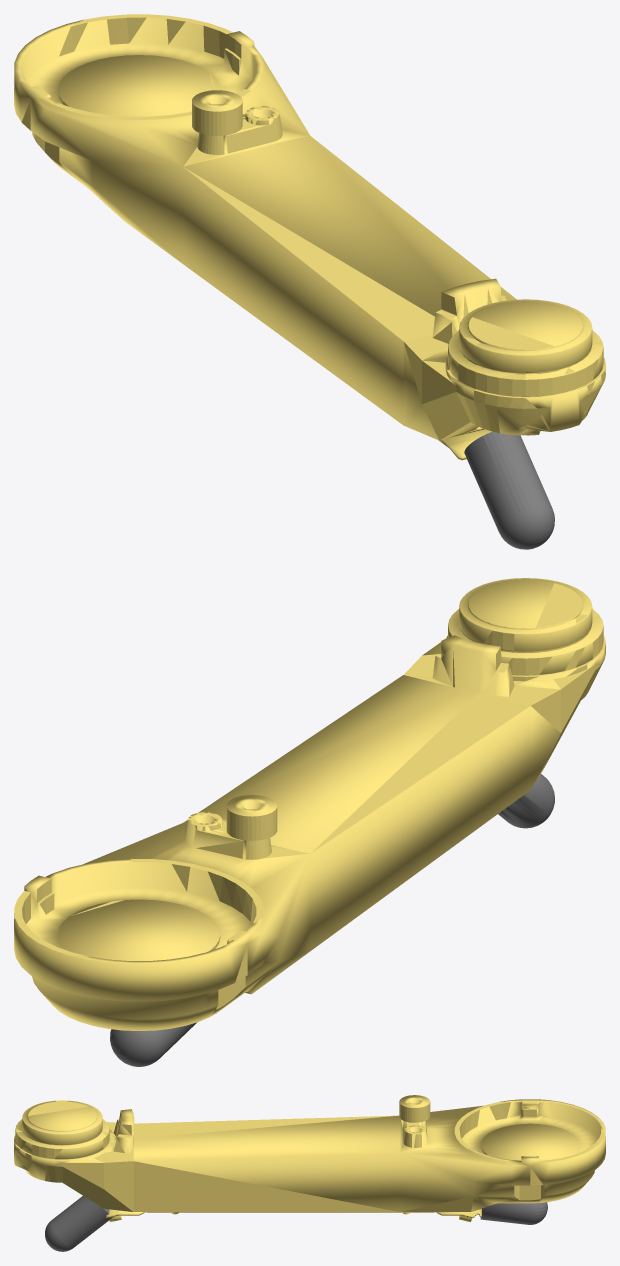
The picture shows the model from 3 angles, top to bottom: view 1: azimuth 30°, elevation 25°; view 2: azimuth 150°, elevation 25°; view 3: azimuth 270°, elevation 25°; orthographic projection. The views are drawn at different scales.
Visible parts, largest first — view 1: Node_0x7fd4b53134a0, Node_0x7fd4b53134a0.001; view 2: Node_0x7fd4b53134a0, Node_0x7fd4b53134a0.001; view 3: Node_0x7fd4b53134a0, Node_0x7fd4b53134a0.001.
Boxes of the visible parts, left/top/right/bottom form: Node_0x7fd4b53134a0: left=14, top=14, right=605, bottom=460; Node_0x7fd4b53134a0.001: left=464, top=431, right=554, bottom=549; Node_0x7fd4b53134a0: left=14, top=578, right=605, bottom=1030; Node_0x7fd4b53134a0.001: left=110, top=774, right=554, bottom=1066; Node_0x7fd4b53134a0: left=14, top=1095, right=605, bottom=1222; Node_0x7fd4b53134a0.001: left=45, top=1196, right=547, bottom=1251.
Size of the model in its own units: 0.256 by 1 by 0.2679.
